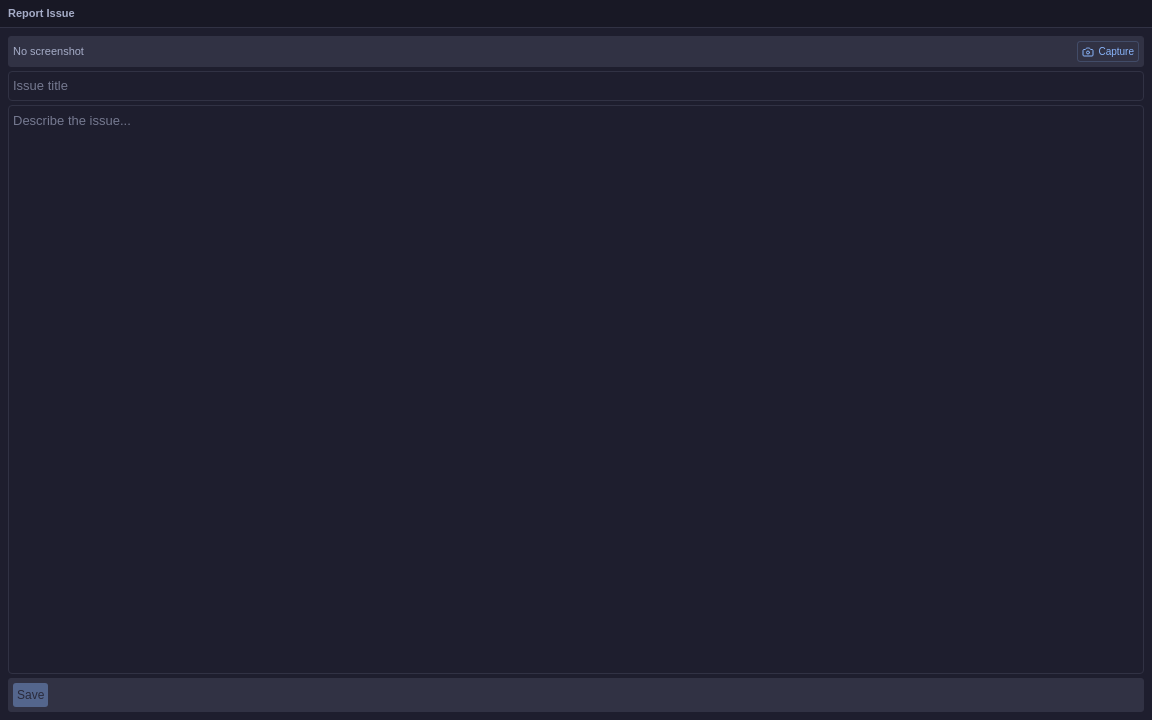
Test: IssueReporterView › keeps Save button enabled after successful submission
In the field with test id "issue-title": x=576, y=86 top-left (8, 71), bottom-right (1144, 100), type "Test issue"
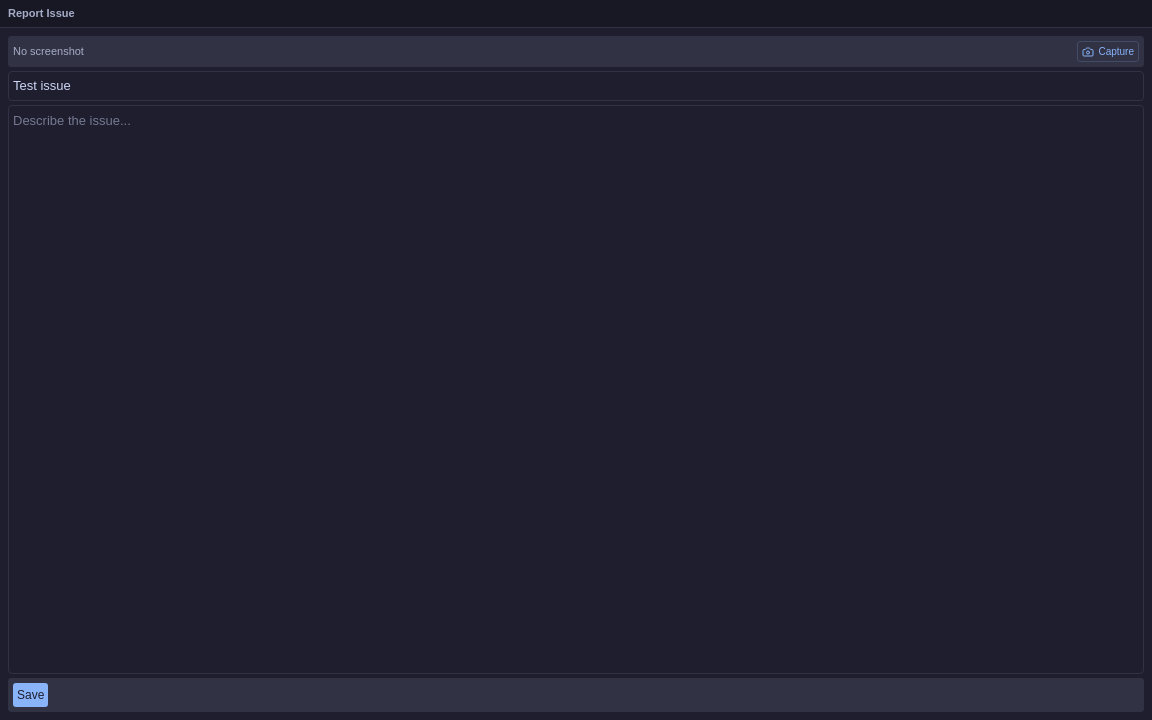
Click the button with test id "issue-submit": x=31, y=695 top-left (13, 683), bottom-right (48, 707)
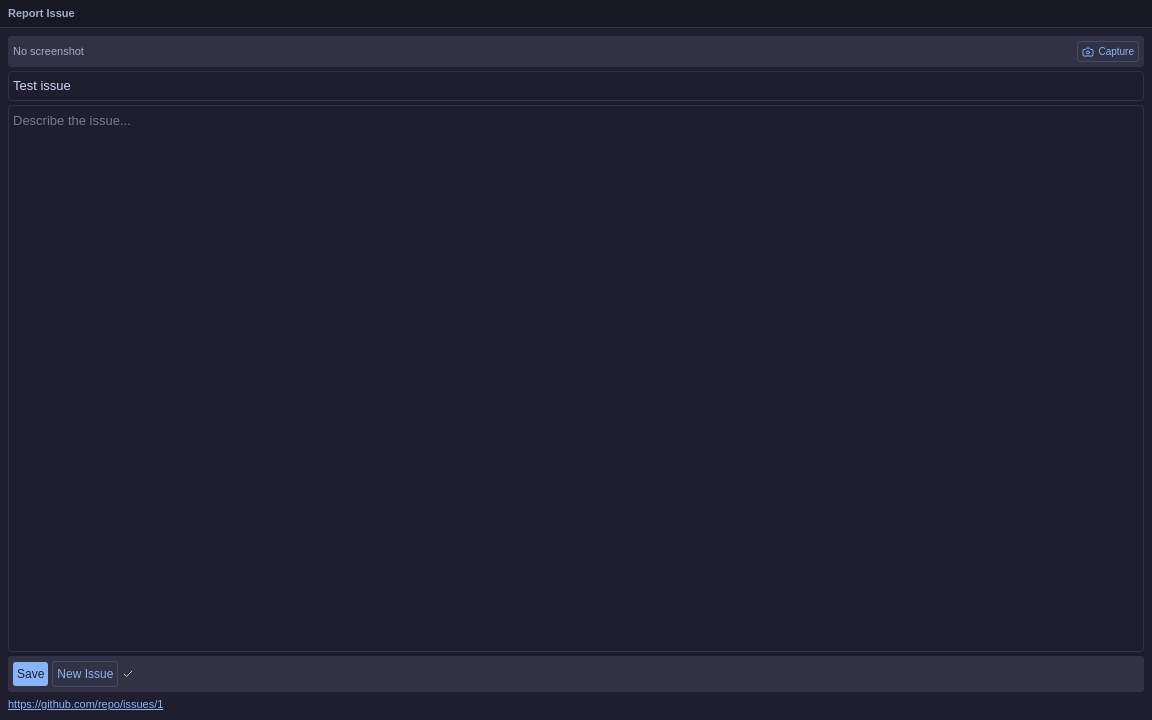
Check: the button with test id "issue-submit" is enabled, box top-left (13, 662), bottom-right (48, 686)
Check: the button with test id "issue-new-report" is shown, box top-left (52, 660), bottom-right (118, 686)
